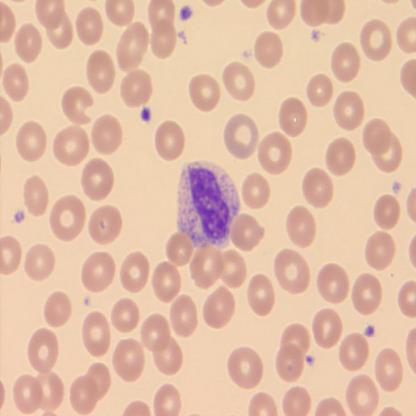Metamyelocyte: (175, 158, 242, 248)
